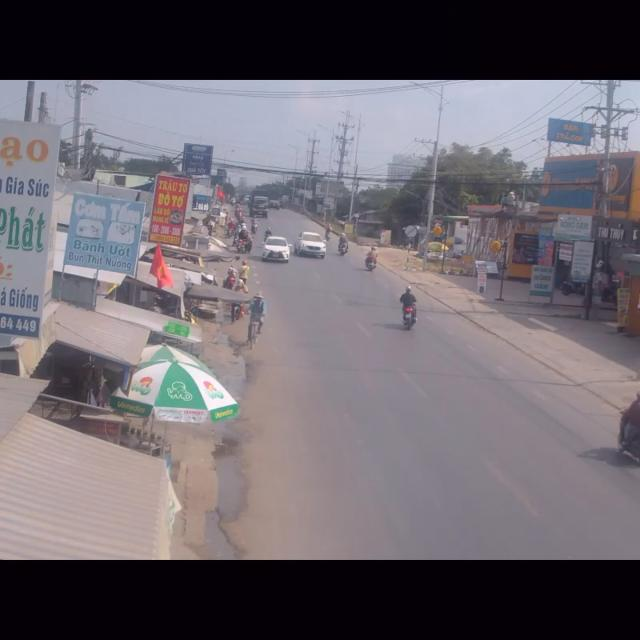motorbike: (400, 282, 420, 332)
